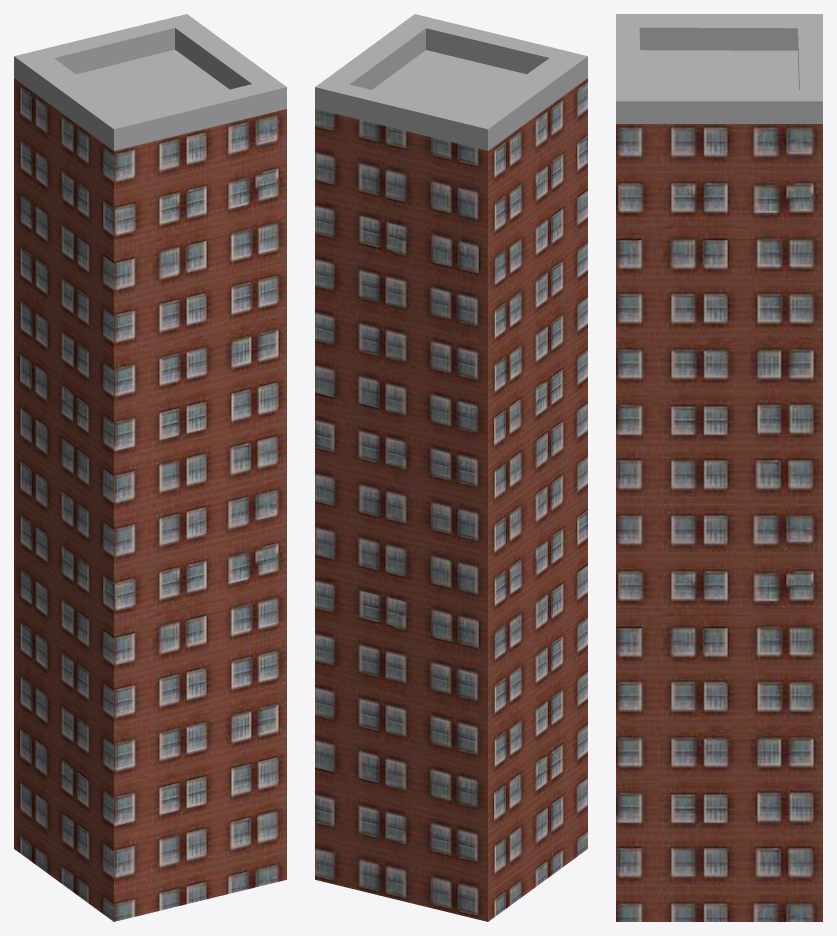
The model's file is Building 5.fbx.
The picture shows the model from 3 angles, left to right: view 1: azimuth 30°, elevation 25°; view 2: azimuth 150°, elevation 25°; view 3: azimuth 270°, elevation 25°; orthographic projection. The views are drawn at different scales.
Visible parts, largest first — view 1: pCube1; view 2: pCube1; view 3: pCube1.
Part boxes in pixels (x1,y1,x2,y2): pCube1: [14, 14, 286, 921]; pCube1: [315, 14, 587, 921]; pCube1: [616, 14, 822, 921].
Size of the model in its own units: 0.01 by 0.0438 by 0.01.
Materials: 3 (1 with a texture image).
